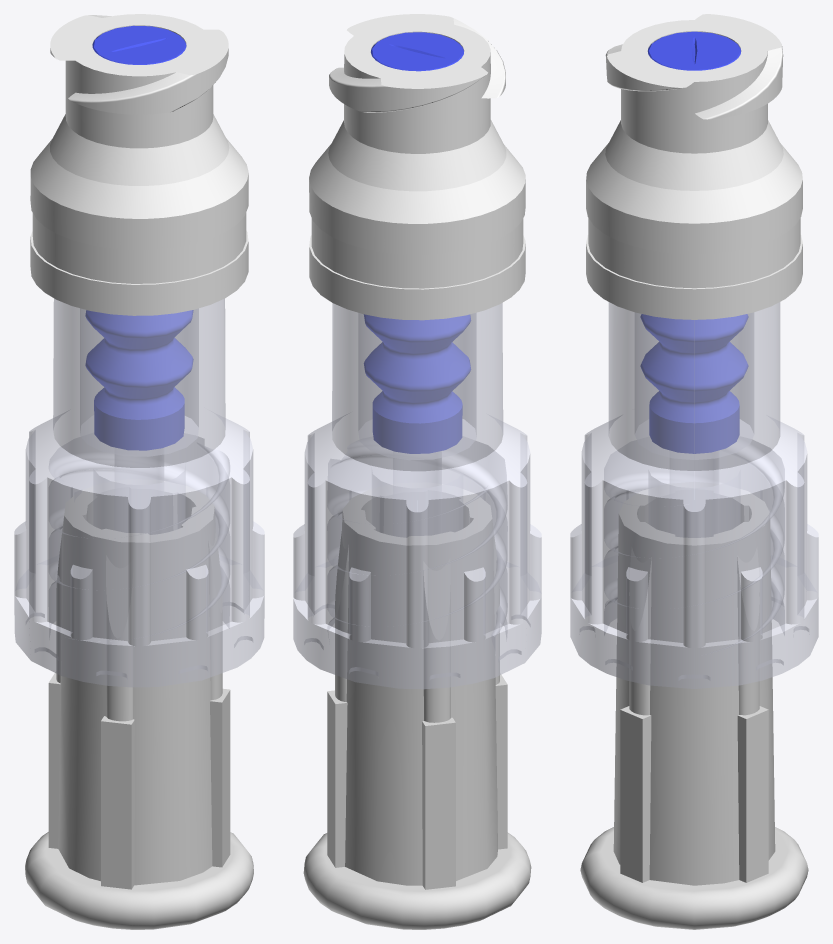
File: BD SmartSite.glb
3 renders of one model, left to right at view 1: azimuth 30°, elevation 25°; view 2: azimuth 150°, elevation 25°; view 3: azimuth 270°, elevation 25°, orthographic.
Visible parts, largest first — view 1: Object_1, Object_3, Object_5, Object_4; view 2: Object_1, Object_3, Object_5, Object_4; view 3: Object_1, Object_3, Object_5, Object_4.
Part boxes in pixels (<box>): Object_1: <box>14,298,264,687</box>; Object_3: <box>25,480,253,929</box>; Object_5: <box>30,14,248,315</box>; Object_4: <box>85,25,193,450</box>; Object_1: <box>293,303,541,689</box>; Object_3: <box>303,483,531,929</box>; Object_5: <box>309,14,525,320</box>; Object_4: <box>364,32,470,453</box>; Object_1: <box>570,302,818,688</box>; Object_3: <box>580,482,808,929</box>; Object_5: <box>586,14,802,319</box>; Object_4: <box>640,31,748,453</box>.
Size of the model in its own units: 0.011 by 0.0409 by 0.011.
